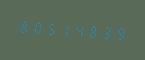eight: (17, 16, 30, 37), (87, 21, 100, 41)
five: (45, 18, 58, 38)
four: (73, 20, 86, 40)
nine: (115, 23, 128, 43)
one: (59, 19, 72, 39)
three: (101, 22, 114, 42)
zero: (31, 17, 44, 38)
